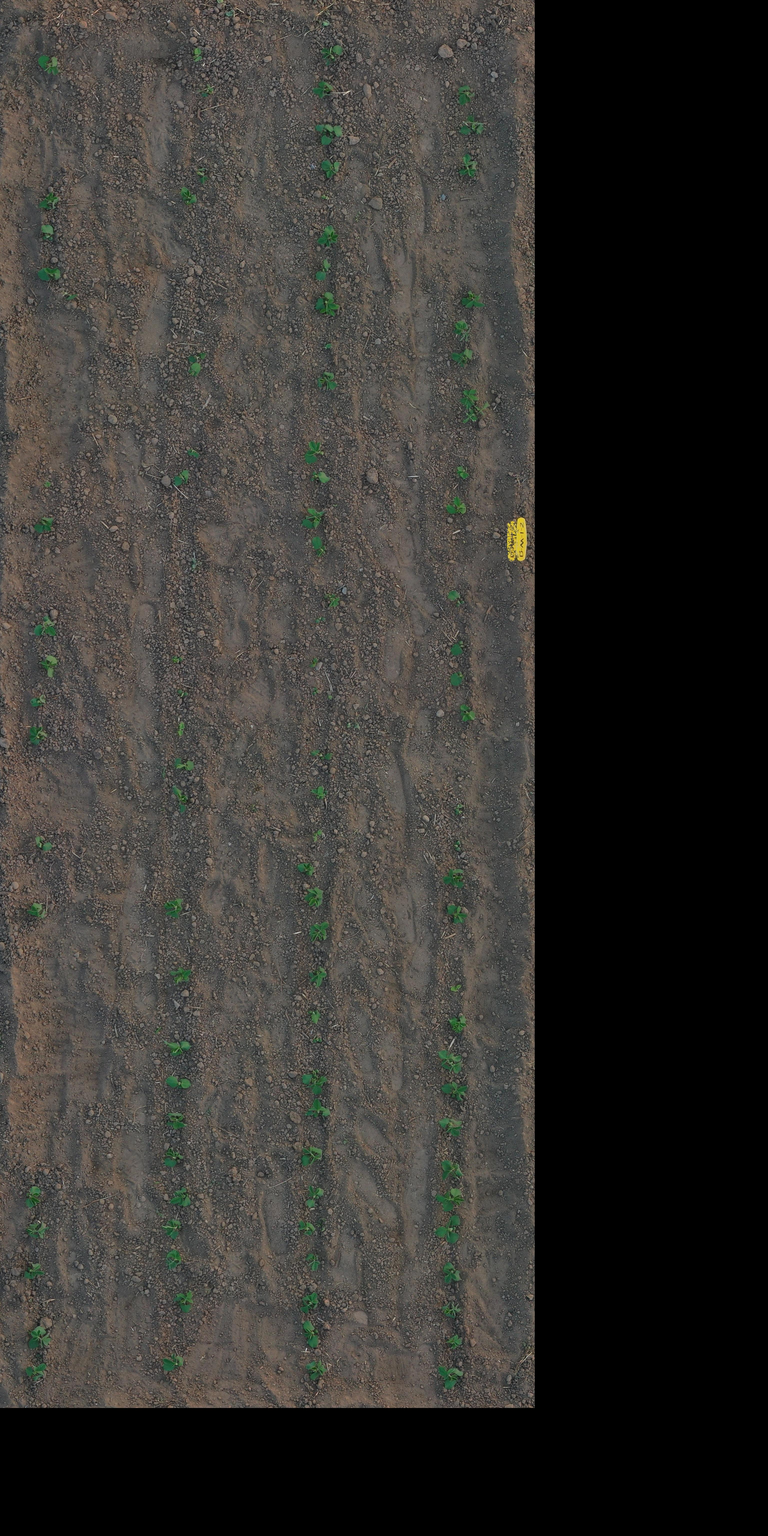s: (434, 1215, 460, 1244), (436, 1188, 466, 1212), (314, 292, 340, 317), (461, 402, 490, 424), (437, 1050, 463, 1074), (437, 1366, 463, 1390), (302, 1074, 328, 1095), (458, 115, 485, 135), (305, 1098, 332, 1118), (441, 1081, 468, 1101), (28, 1326, 51, 1349), (320, 44, 344, 66), (302, 508, 325, 530), (301, 1144, 323, 1167), (458, 153, 478, 178), (33, 615, 56, 636), (38, 655, 59, 678), (442, 868, 465, 889), (304, 441, 324, 465), (440, 1160, 464, 1180), (302, 1320, 319, 1348), (438, 1118, 463, 1137), (163, 1040, 192, 1056), (37, 55, 59, 76), (161, 1218, 182, 1240), (442, 1262, 463, 1284), (173, 1291, 194, 1313), (320, 125, 343, 145), (305, 1360, 328, 1380), (169, 966, 193, 985), (461, 290, 486, 308), (172, 785, 188, 813), (170, 1186, 191, 1207), (451, 348, 473, 368), (162, 898, 184, 918), (304, 886, 324, 908), (459, 389, 478, 412), (26, 1221, 50, 1239), (306, 1184, 324, 1208), (312, 80, 333, 100), (28, 726, 49, 746), (309, 921, 329, 942), (452, 320, 471, 342), (162, 1352, 184, 1371), (300, 1292, 319, 1314), (164, 1148, 184, 1168), (447, 905, 468, 924), (166, 1112, 188, 1130), (25, 1363, 47, 1381), (314, 258, 331, 281), (448, 1014, 468, 1033), (38, 192, 59, 210), (321, 160, 342, 178), (458, 85, 476, 106), (317, 372, 338, 390), (445, 496, 466, 514), (309, 966, 327, 987), (36, 267, 61, 282), (24, 1186, 41, 1208), (317, 231, 340, 247), (165, 1075, 191, 1089), (442, 1300, 461, 1319), (34, 516, 54, 534), (165, 1249, 182, 1270), (180, 186, 197, 206), (26, 902, 46, 919), (24, 1263, 45, 1279), (311, 536, 326, 558), (447, 590, 464, 608), (305, 1253, 321, 1272), (310, 471, 333, 484), (460, 704, 476, 722), (298, 1220, 316, 1236), (174, 757, 194, 771), (173, 470, 190, 486), (35, 836, 53, 851), (324, 592, 340, 608), (446, 1334, 462, 1350), (297, 862, 315, 876), (310, 750, 334, 760), (40, 224, 54, 241), (196, 167, 210, 184), (311, 786, 328, 800), (324, 225, 336, 244), (455, 465, 470, 480), (450, 671, 465, 686), (450, 640, 464, 656), (314, 123, 334, 134), (188, 352, 208, 363), (200, 83, 214, 98), (30, 694, 46, 707), (188, 362, 201, 377), (308, 1010, 321, 1024), (186, 447, 200, 459), (62, 290, 78, 300), (192, 48, 202, 62), (176, 722, 185, 736), (313, 829, 322, 842), (308, 657, 318, 668), (311, 1067, 319, 1080), (177, 689, 189, 697), (450, 984, 462, 992), (315, 616, 326, 624), (171, 656, 183, 663), (454, 840, 461, 852), (322, 343, 332, 350), (312, 687, 320, 695), (43, 481, 52, 488), (455, 808, 463, 815), (312, 1038, 322, 1043), (184, 200, 191, 206), (456, 804, 464, 809), (321, 194, 328, 199)
